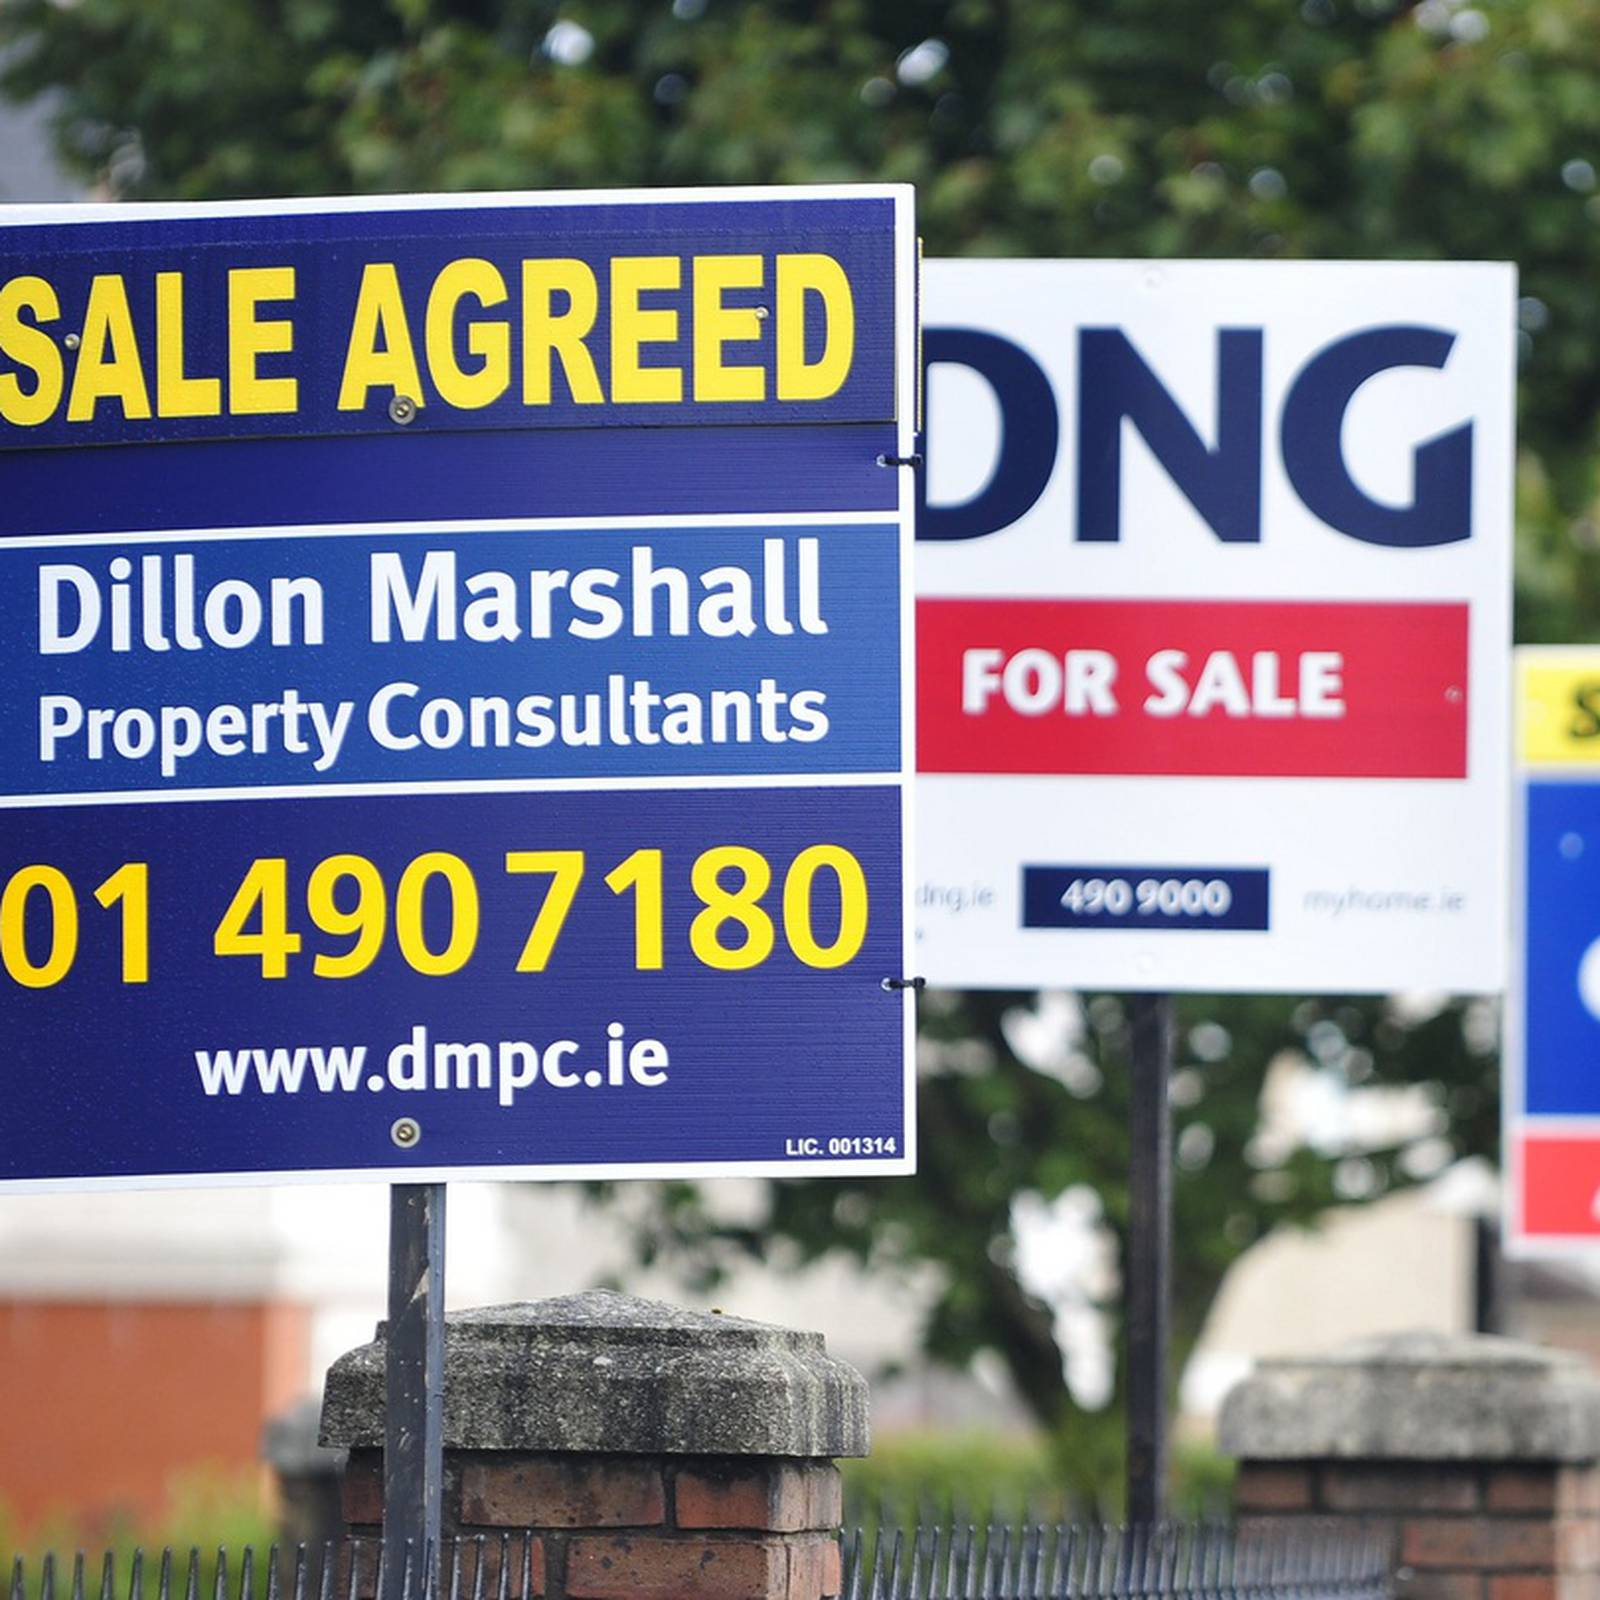property sign: (4, 160, 933, 1204), (892, 215, 1552, 1068)
